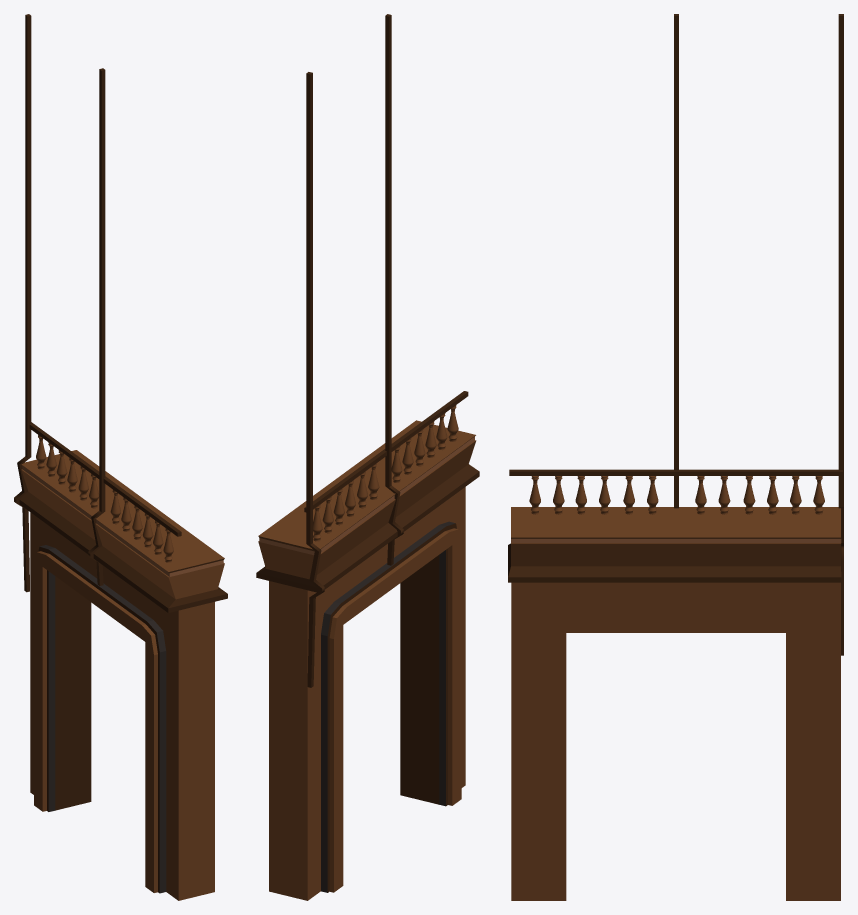
Rendered from muur_tunnel_lang.fbx.
3 renders of one model, left to right at view 1: azimuth 30°, elevation 25°; view 2: azimuth 150°, elevation 25°; view 3: azimuth 270°, elevation 25°, orthographic. The views are drawn at different scales.
Visible parts, largest first — view 1: pCube13, main_closet1, fence_and_wire_detail1; view 2: pCube13, main_closet1, fence_and_wire_detail1; view 3: pCube13, main_closet1, fence_and_wire_detail1.
Part boxes in pixels (x1,y1,x2,y2): pCube13: (30,512,214,900); main_closet1: (19,450,227,612); fence_and_wire_detail1: (14,14,181,592); pCube13: (269,487,465,900); main_closet1: (256,420,479,592); fence_and_wire_detail1: (304,14,468,687); pCube13: (511,582,840,900); main_closet1: (508,507,841,582); fence_and_wire_detail1: (509,14,843,655).
Size of the model in its own units: 2.9 by 34.27 by 12.05.
